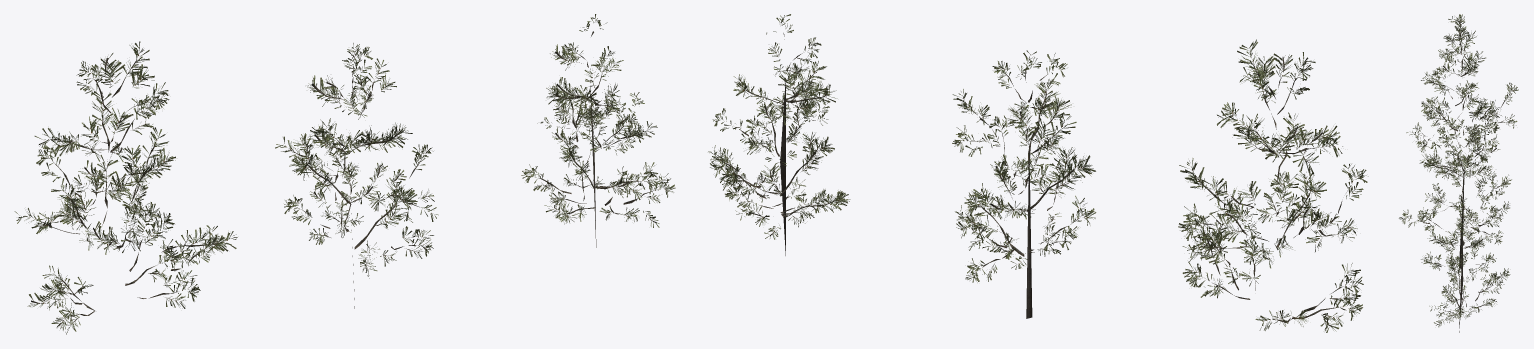
The model's file is pine_sapling_small.glb.
3 renders of one model, left to right at view 1: azimuth 30°, elevation 25°; view 2: azimuth 150°, elevation 25°; view 3: azimuth 270°, elevation 25°, orthographic. The views are drawn at different scales.
Parts seen in each view (by area): view 1: pine_sapling_small_a, pine_sapling_small_b, pine_sapling_small_c; view 2: pine_sapling_small_a, pine_sapling_small_b, pine_sapling_small_c; view 3: pine_sapling_small_a, pine_sapling_small_b, pine_sapling_small_c.
Part boxes in pixels (bbox=[...]): pine_sapling_small_a: bbox=[14, 41, 237, 334]; pine_sapling_small_b: bbox=[275, 43, 438, 308]; pine_sapling_small_c: bbox=[521, 14, 675, 247]; pine_sapling_small_a: bbox=[1178, 39, 1368, 332]; pine_sapling_small_b: bbox=[952, 50, 1096, 318]; pine_sapling_small_c: bbox=[708, 14, 850, 255]; pine_sapling_small_a: bbox=[1406, 14, 1518, 177]; pine_sapling_small_b: bbox=[1399, 119, 1511, 268]; pine_sapling_small_c: bbox=[1421, 198, 1510, 332].
Size of the model in its own units: 2.64 by 1.28 by 0.7676.
Materials: 2 (2 with a texture image).
